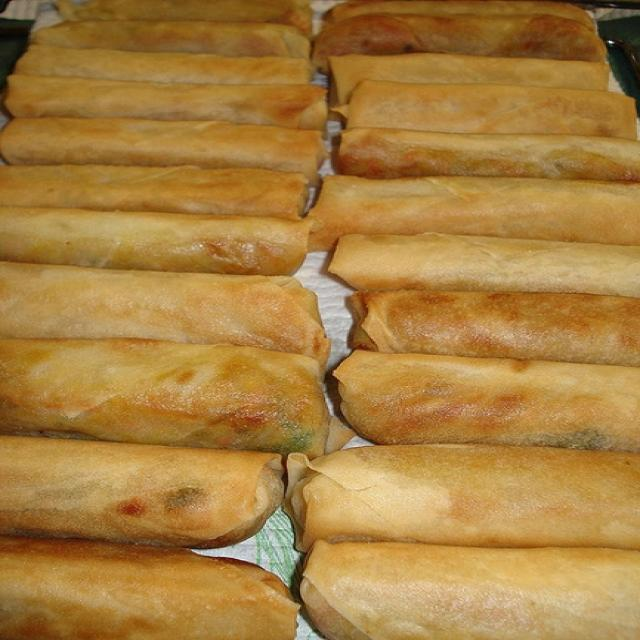炸货点心: (8, 16, 631, 612)
